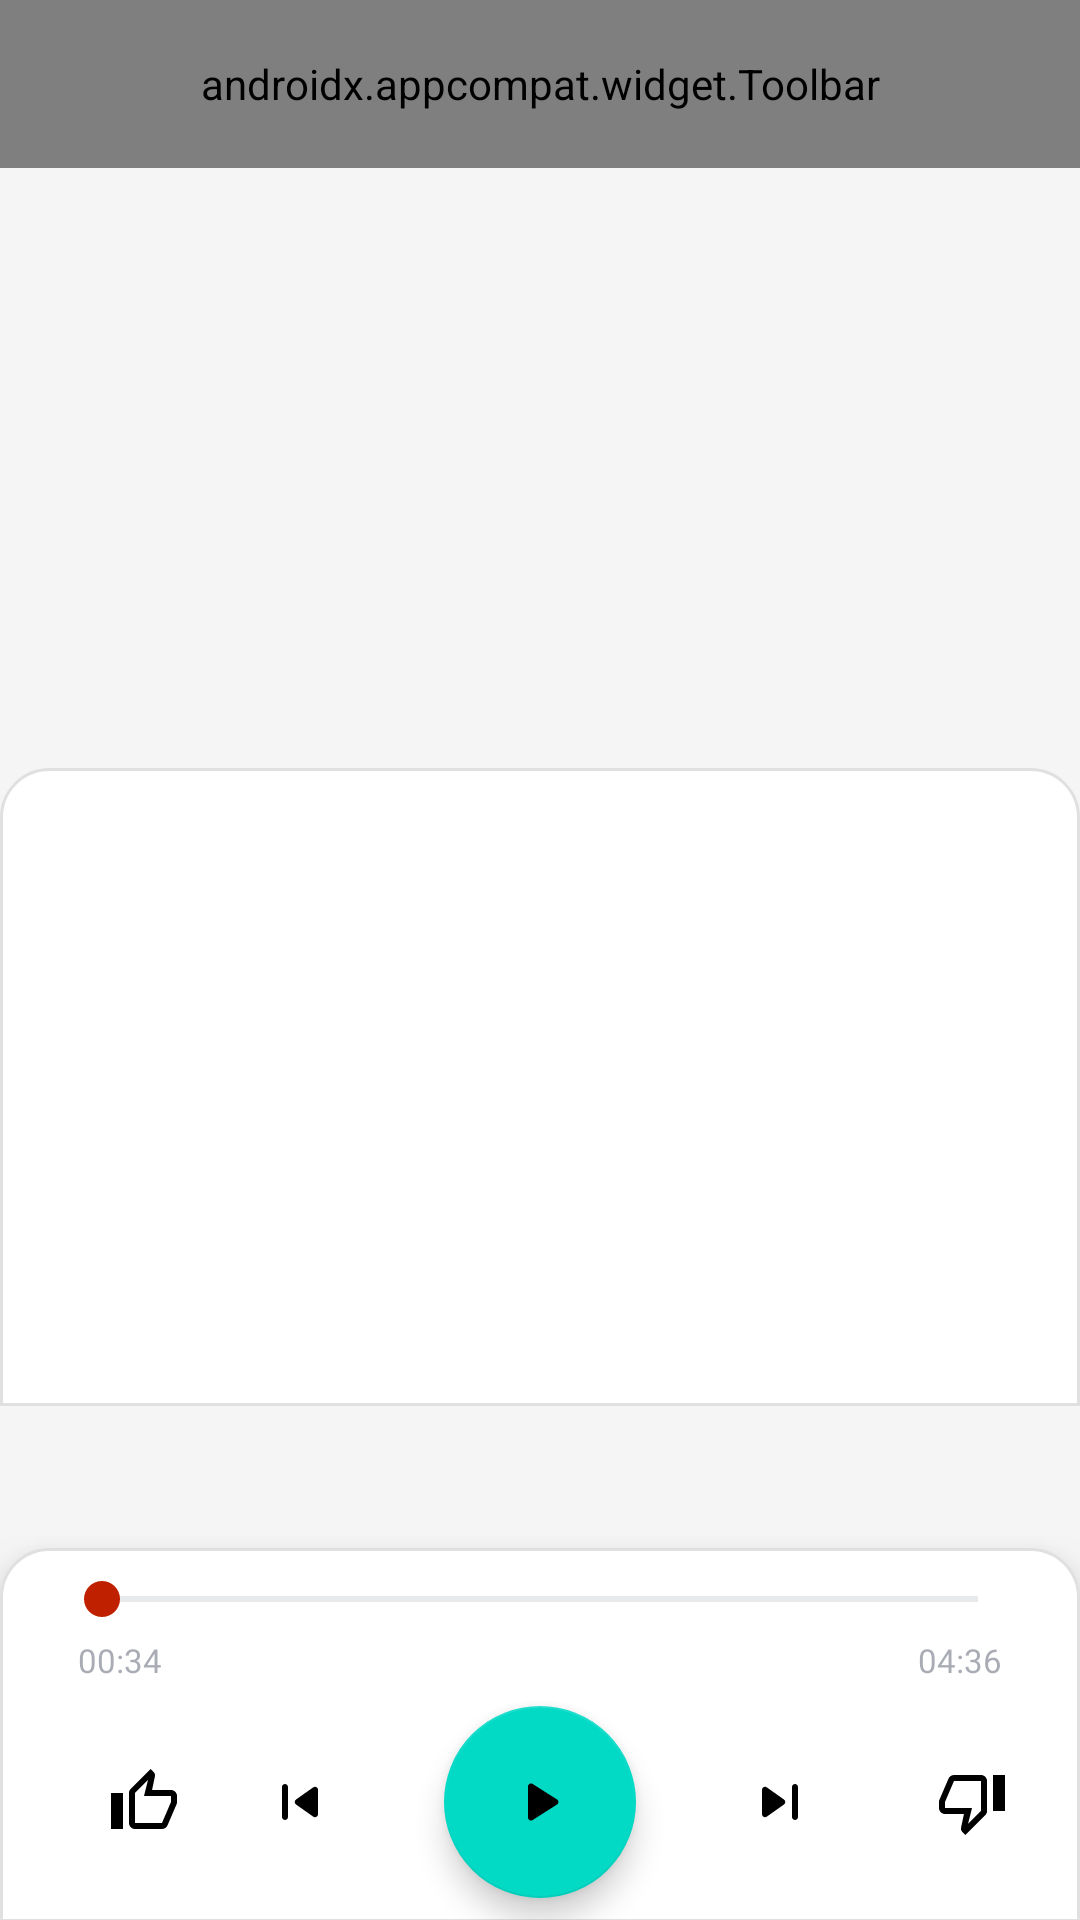

Named icons in this screenshot (1080px×1920px) and their centers, (x=x, y=y):
play: (x=540, y=1802)
skip next: (x=780, y=1802)
skip previous: (x=300, y=1802)
thumb down: (x=972, y=1805)
thumb up: (x=144, y=1799)
